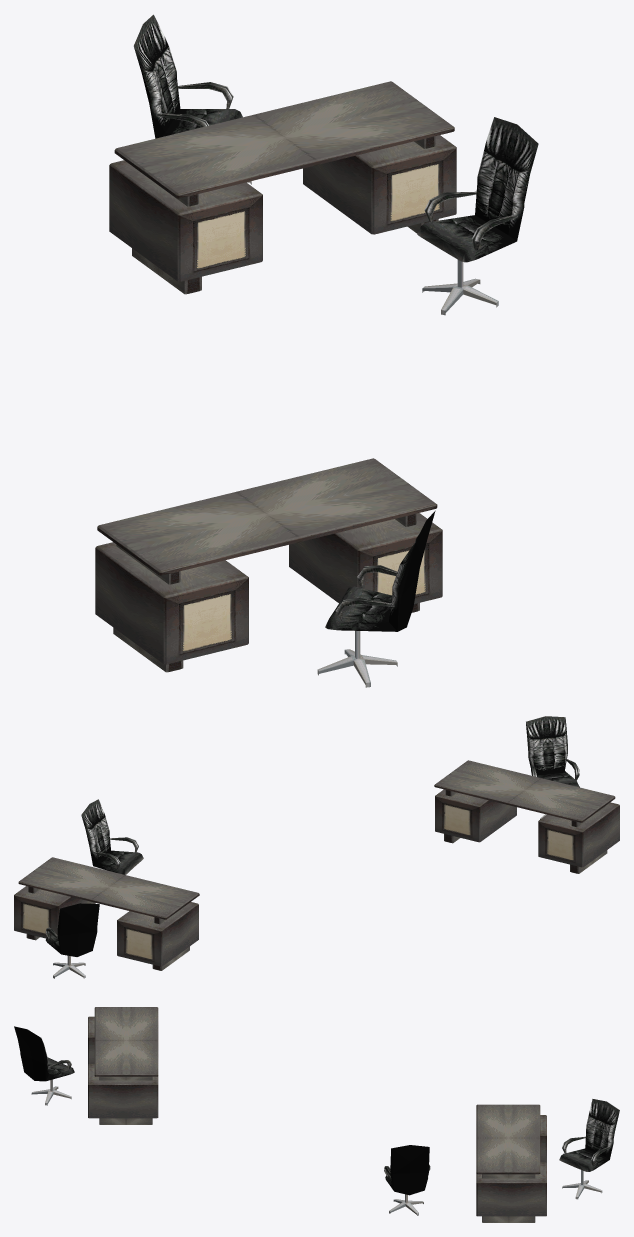
The model's file is dockoff01_las2.obj.
3 renders of one model, top to bottom at view 1: azimuth 30°, elevation 25°; view 2: azimuth 150°, elevation 25°; view 3: azimuth 270°, elevation 25°, orthographic. The views are drawn at different scales.
Visible parts, largest first — view 1: dockoff01_LAs2; view 2: dockoff01_LAs2; view 3: dockoff01_LAs2.
Part boxes in pixels (bbox=[...]): dockoff01_LAs2: bbox=[95, 14, 538, 687]; dockoff01_LAs2: bbox=[14, 716, 619, 978]; dockoff01_LAs2: bbox=[14, 1007, 619, 1222].
Size of the model in its own units: 5.46 by 1.22 by 8.41.
Materials: 3 (3 with a texture image).
